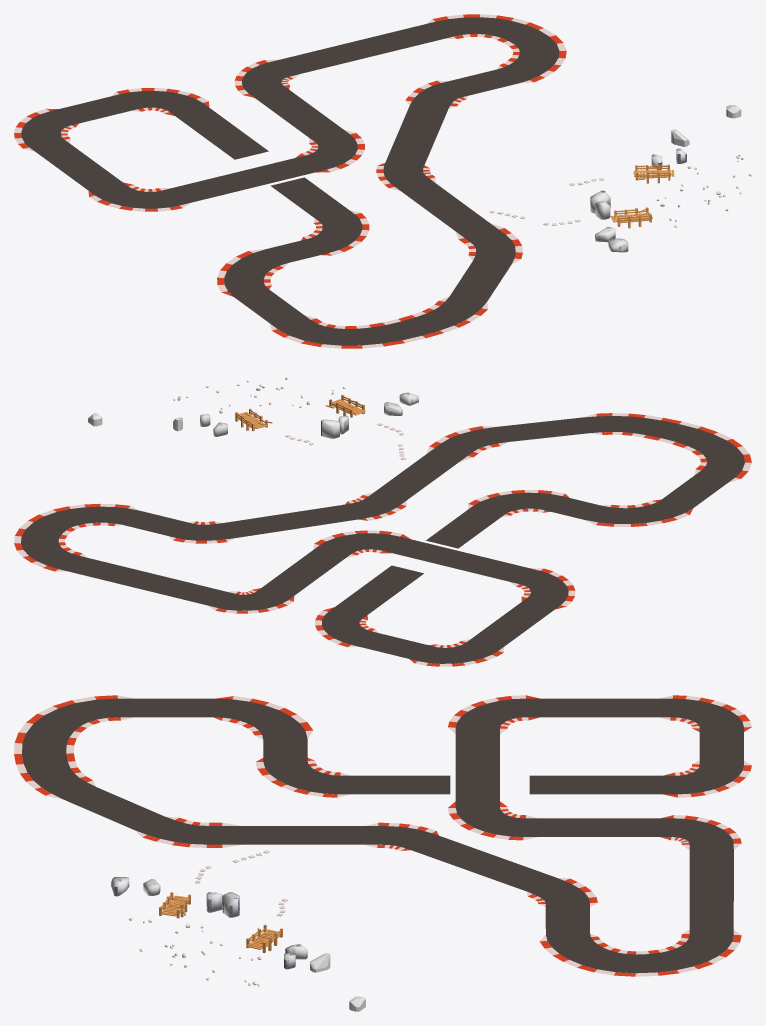
Rendered from scenery.glb.
3 renders of one model, top to bottom at view 1: azimuth 30°, elevation 25°; view 2: azimuth 150°, elevation 25°; view 3: azimuth 270°, elevation 25°, orthographic. The views are drawn at different scales.
Visible parts, largest first — view 1: refRoad, Cube.076, Cube.049, Cube.078, Cube.071, Cube.079, bridgePhysicalFixed; view 2: refRoad, Cube.076, Cube.049, Cube.078, Cube.079, Cube.072, Cube.071, Cube.067, bridgePhysicalFixed.001; view 3: refRoad, Cube.076, Cube.049, Cube.078, Cube.079, Cube.071, Cube.072, Cube.075, Cube.067, Cube.066, bridgePhysicalFixed, Cube.064 (+1 smaller).
Part boxes in pixels (x1,y1,x2,y2): refRoad: [21, 17, 559, 345]; Cube.076: [270, 297, 487, 348]; Cube.049: [426, 14, 566, 83]; Cube.078: [217, 249, 288, 296]; Cube.071: [88, 182, 191, 211]; Cube.079: [301, 210, 369, 255]; bridgePhysicalFixed: [633, 164, 674, 183]; refRoad: [21, 416, 744, 663]; Cube.076: [582, 413, 751, 482]; Cube.049: [14, 503, 138, 571]; Cube.078: [583, 499, 692, 526]; Cube.079: [468, 490, 569, 517]; Cube.072: [313, 530, 410, 557]; Cube.071: [510, 568, 575, 609]; Cube.067: [409, 639, 504, 666]; bridgePhysicalFixed.001: [326, 394, 365, 417]; refRoad: [22, 698, 743, 973]; Cube.076: [14, 695, 134, 799]; Cube.049: [539, 929, 741, 976]; Cube.078: [214, 696, 313, 739]; Cube.079: [255, 758, 349, 797]; Cube.071: [448, 695, 539, 733]; Cube.072: [448, 801, 537, 840]; Cube.075: [135, 816, 241, 847]; Cube.067: [659, 695, 751, 731]; Cube.066: [663, 760, 751, 797]; bridgePhysicalFixed: [246, 924, 282, 952]; Cube.064: [660, 815, 741, 849].
Size of the model in its own units: 168 by 5.47 by 167.
2 materials, 1 textured.
